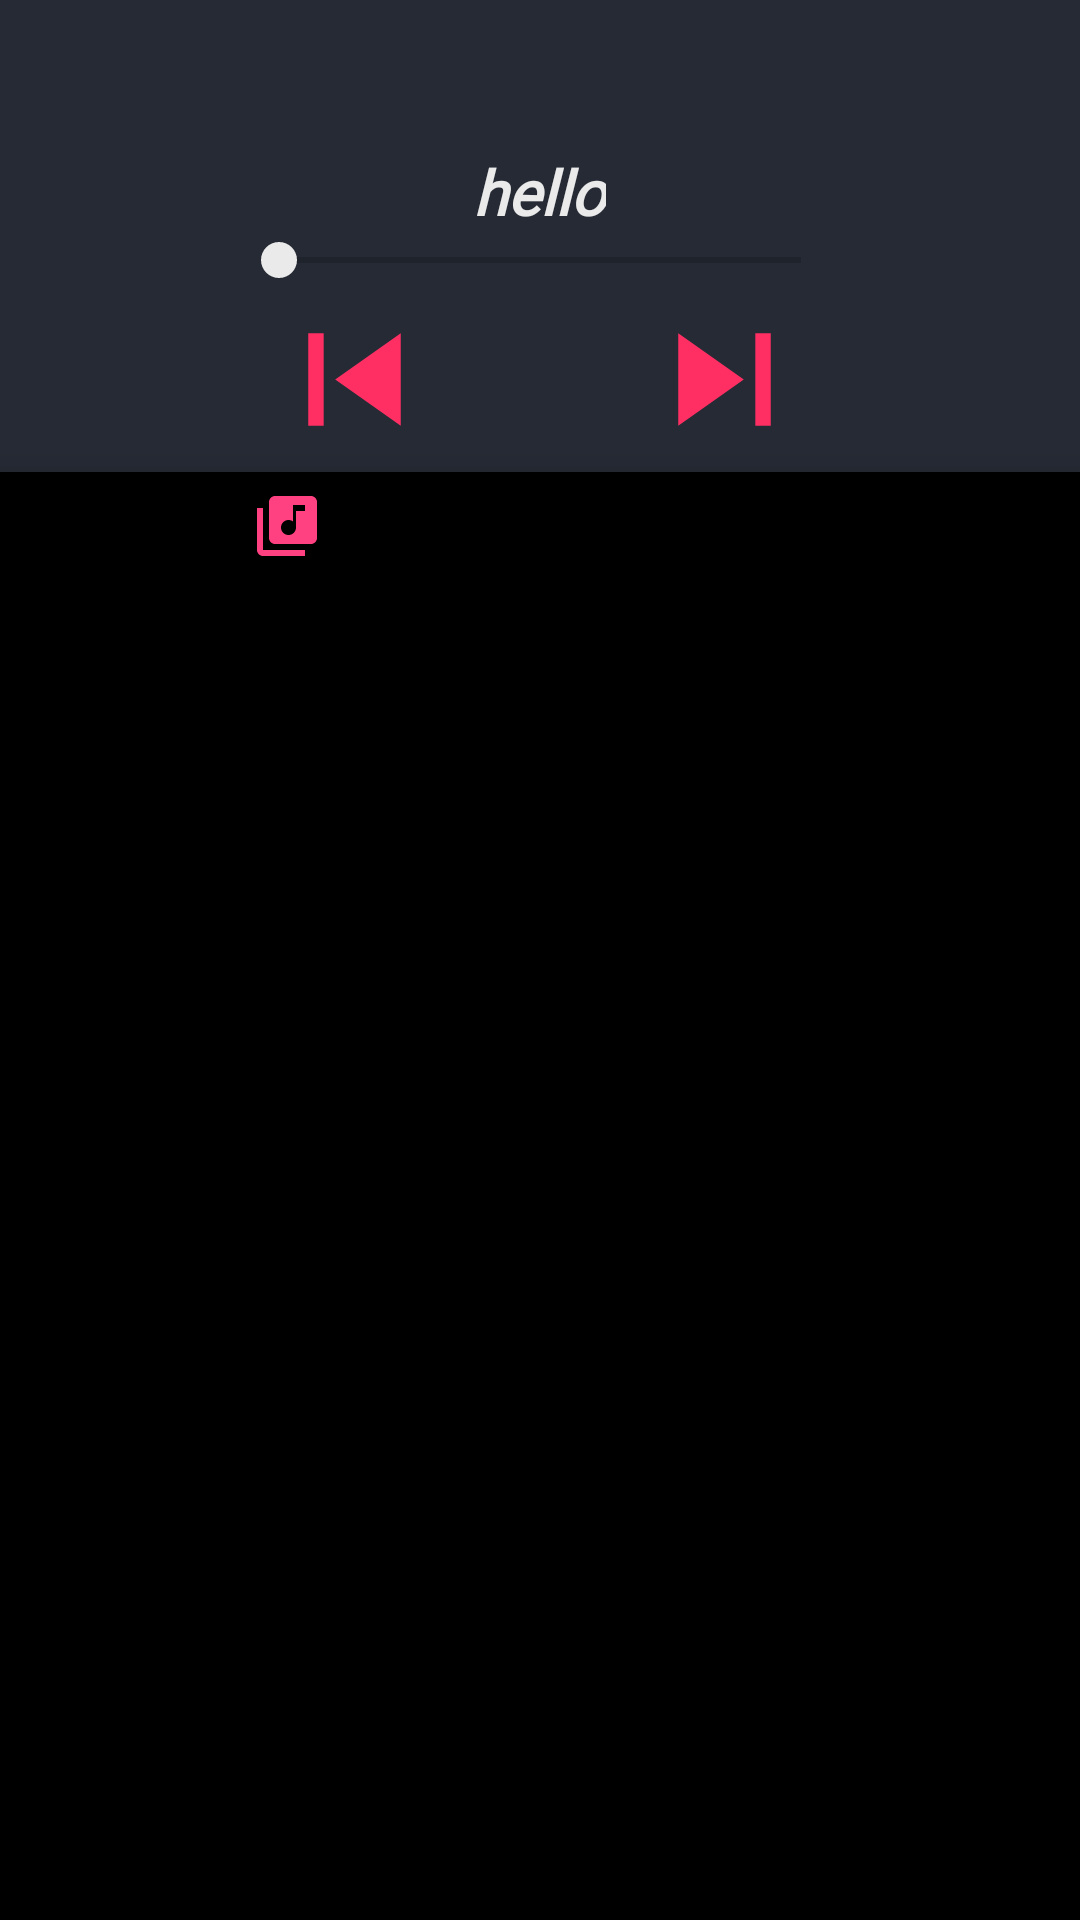

Where icons sit on this 1080 × 1920 app screen, as (x1, y1, x2, y2):
skip next: (678, 333, 771, 426)
skip previous: (308, 333, 401, 426)
